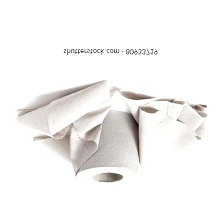tissue: (3, 73, 215, 194)
